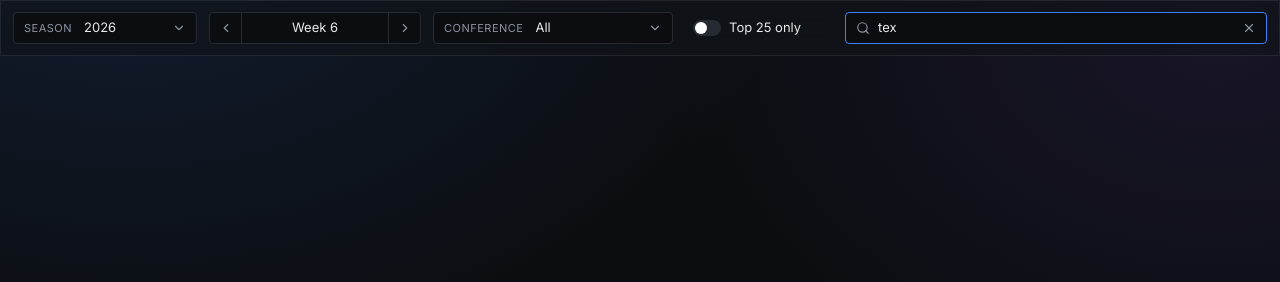
Test: FilterBar › search › clears with the x button
Step 1. Click the button named "Clear search" → (1249, 28), box [1242,21,1256,35]
Wait 300 ms
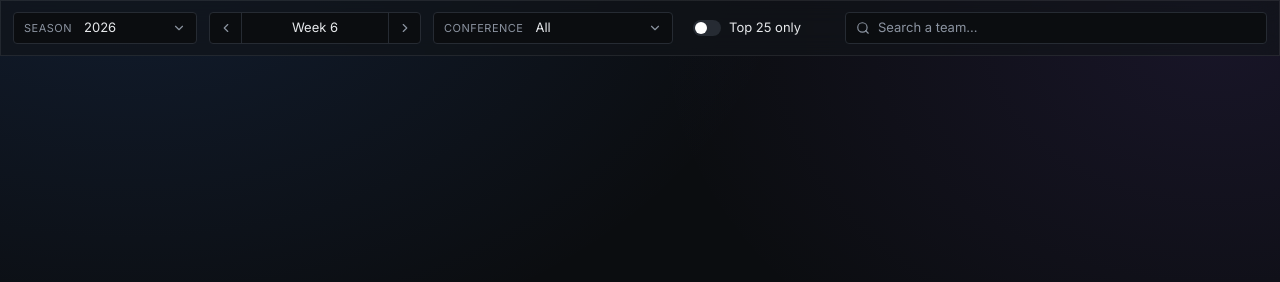
Expected: the search field labelled "Search a team" is empty, [878,18,1256,38]
